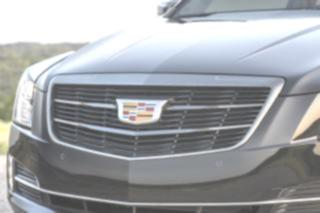cadillac: (110, 90, 177, 129)
